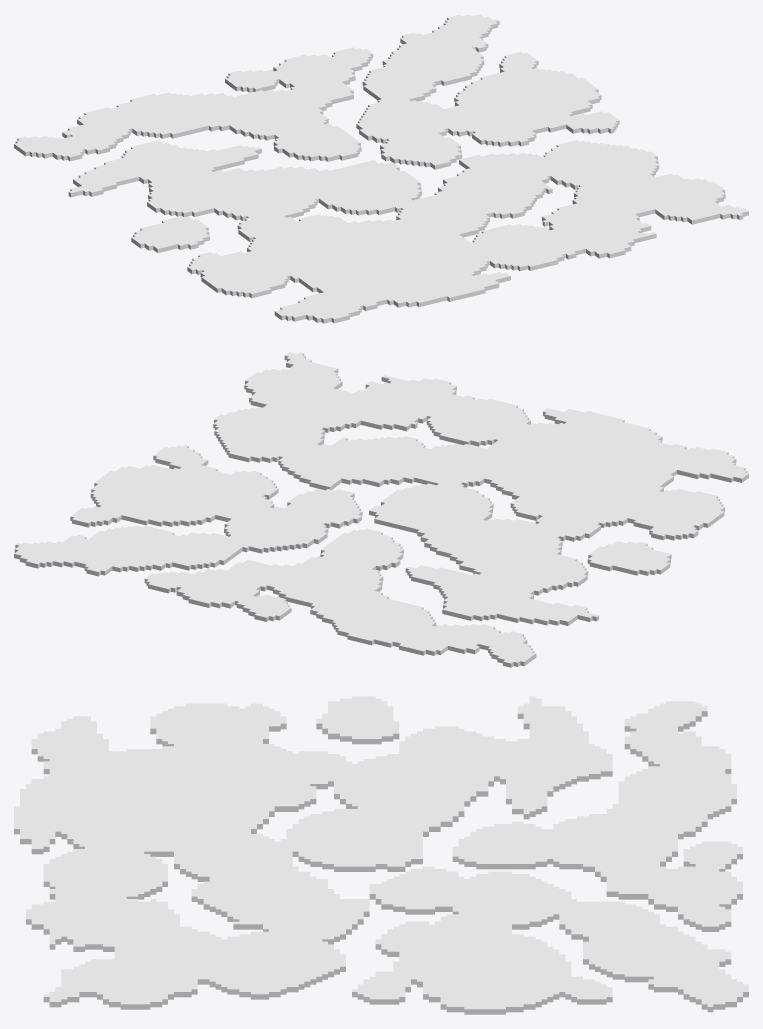
Rendered from flat_cloud.obj.
3 views of the same model, one above another, from view 1: azimuth 30°, elevation 25°; view 2: azimuth 150°, elevation 25°; view 3: azimuth 270°, elevation 25° (orthographic). The views are drawn at different scales.
Size of the model in its own units: 125 by 1 by 124.
Materials: 1 (1 with a texture image).
